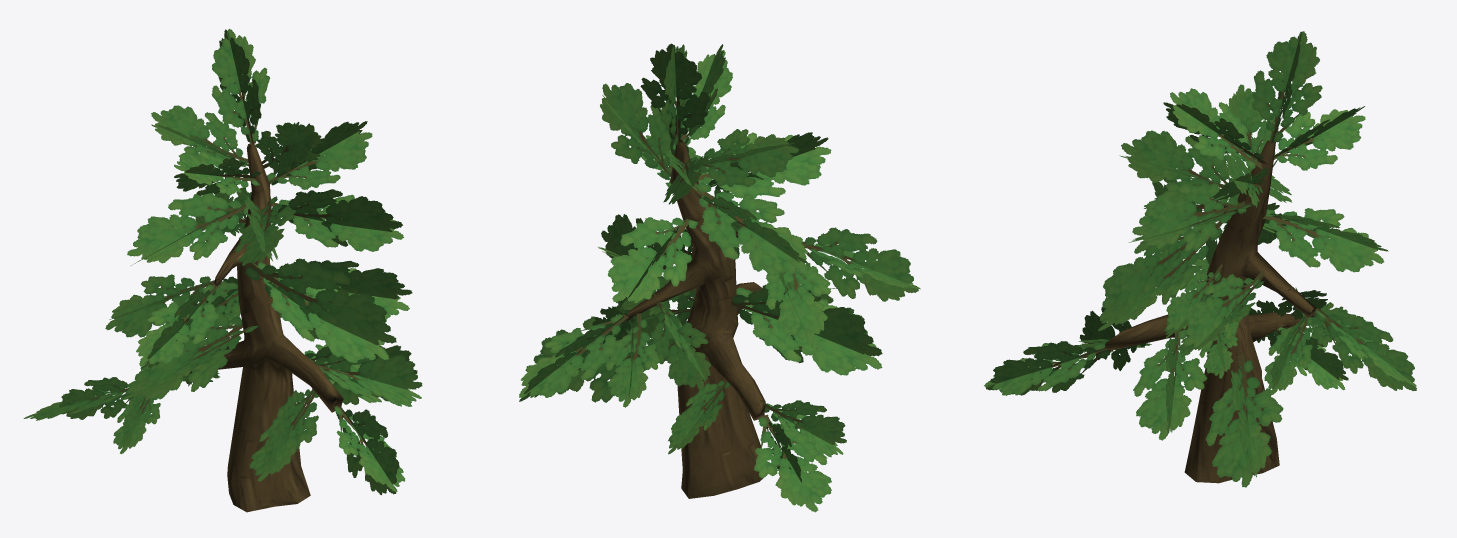
Rendered from tree3_03.fbx.
3 renders of one model, left to right at view 1: azimuth 30°, elevation 25°; view 2: azimuth 150°, elevation 25°; view 3: azimuth 270°, elevation 25°, orthographic. The views are drawn at different scales.
Visible parts, largest first — view 1: polySurface3, pPlane60, pPlane26, pPlane61, pPlane30, pPlane53, pPlane1, pPlane15, pPlane56, pPlane10, pPlane25, pPlane80 (+25 smaller); view 2: polySurface3, pPlane34, pPlane27, pPlane11, pPlane24, pPlane6, pPlane4, pPlane52, pPlane57, pPlane19, pPlane1, pPlane53 (+20 smaller); view 3: polySurface3, pPlane84, pPlane3, pPlane30, pPlane28, pPlane35, pPlane81, pPlane60, pPlane5, pPlane16, pPlane21, pPlane63 (+24 smaller).
Boxes of the visible parts, box(x1,y1,x2,y2) form: polySurface3: box(189, 143, 343, 512); pPlane60: box(241, 258, 396, 345); pPlane26: box(127, 193, 248, 263); pPlane61: box(251, 262, 389, 362); pPlane30: box(271, 189, 402, 246); pPlane53: box(127, 309, 242, 399); pPlane1: box(211, 28, 269, 144); pPlane15: box(151, 105, 248, 166); pPlane56: box(105, 274, 221, 337); pPlane10: box(136, 284, 219, 366); pPlane25: box(267, 131, 372, 189); pPlane80: box(315, 345, 422, 404); polySurface3: box(625, 139, 775, 498); pPlane34: box(608, 217, 697, 302); pPlane27: box(697, 182, 808, 276); pPlane11: box(802, 227, 918, 301); pPlane24: box(600, 83, 672, 179); pPlane6: box(754, 414, 831, 512); pPlane4: box(519, 314, 628, 397); pPlane52: box(736, 287, 882, 375); pPlane57: box(765, 262, 830, 345); pPlane19: box(690, 129, 799, 187); pPlane1: box(640, 43, 709, 143); pPlane53: box(731, 284, 882, 363); polySurface3: box(1105, 140, 1315, 483); pPlane84: box(1205, 354, 1283, 487); pPlane3: box(1252, 31, 1322, 143); pPlane30: box(1132, 182, 1246, 251); pPlane28: box(1121, 130, 1239, 200); pPlane35: box(1263, 208, 1384, 272); pPlane81: box(1133, 329, 1207, 440); pPlane60: box(1099, 222, 1216, 323); pPlane5: box(1315, 309, 1416, 390); pPlane16: box(1274, 109, 1365, 170); pPlane21: box(1170, 88, 1262, 168); pPlane63: box(1184, 269, 1264, 350).
Size of the model in its own units: 714 by 783 by 757.
